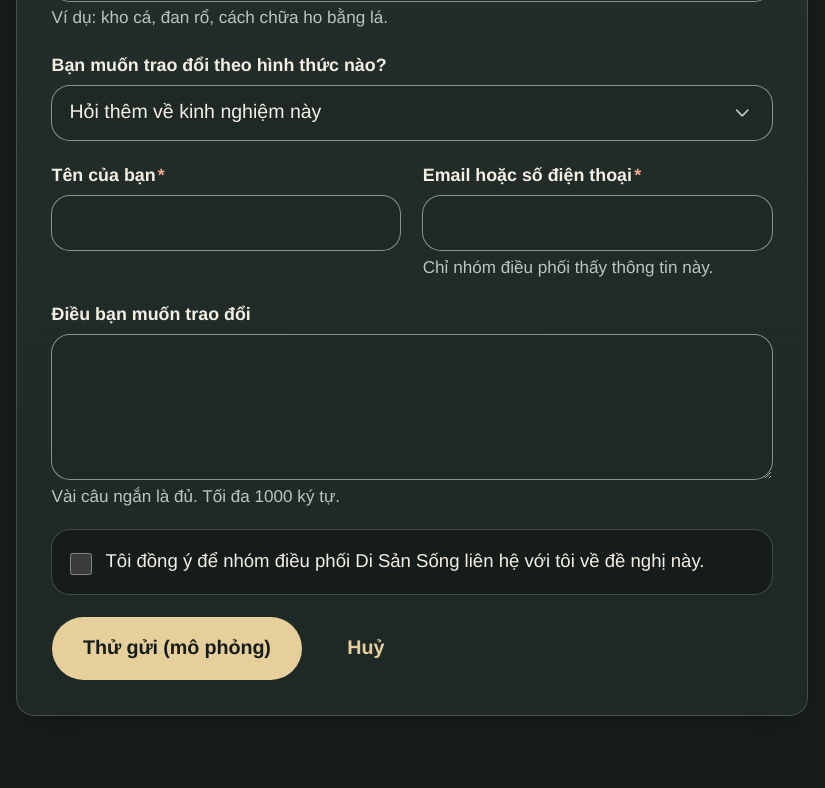
Test: ConnectPage (no Supabase = simulation) › validates required fields and consent before anything is accepted
(page scrolled)
Click the button "Thử gửi (mô phỏng)": x=177, y=648 [52, 616, 302, 680]
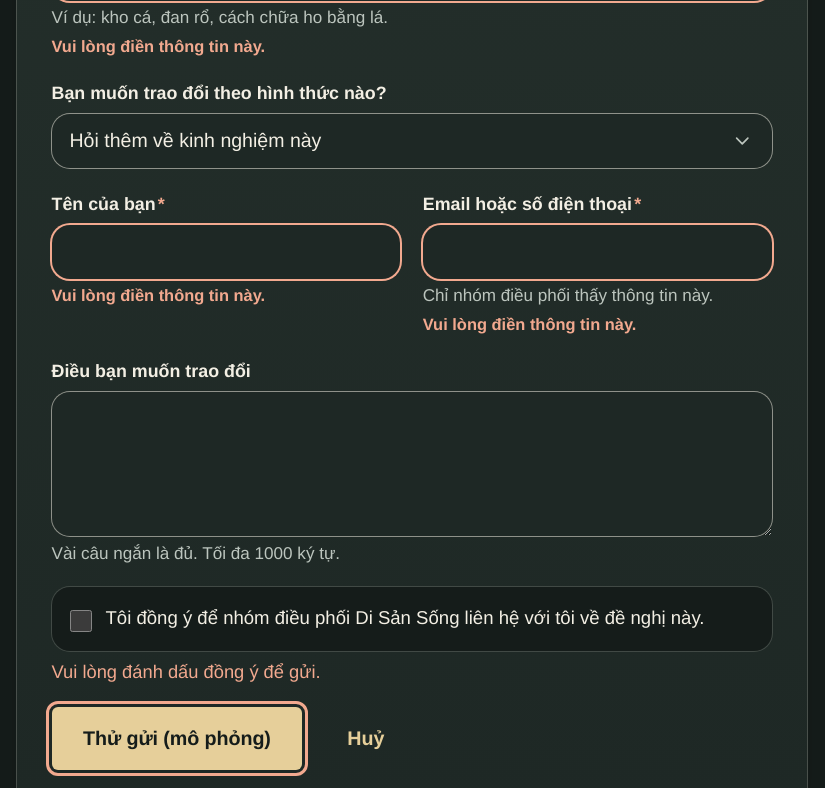
Expected: the text "Vui lòng đánh dấu đồng ý để gửi." is shown, [52, 661, 321, 682]
